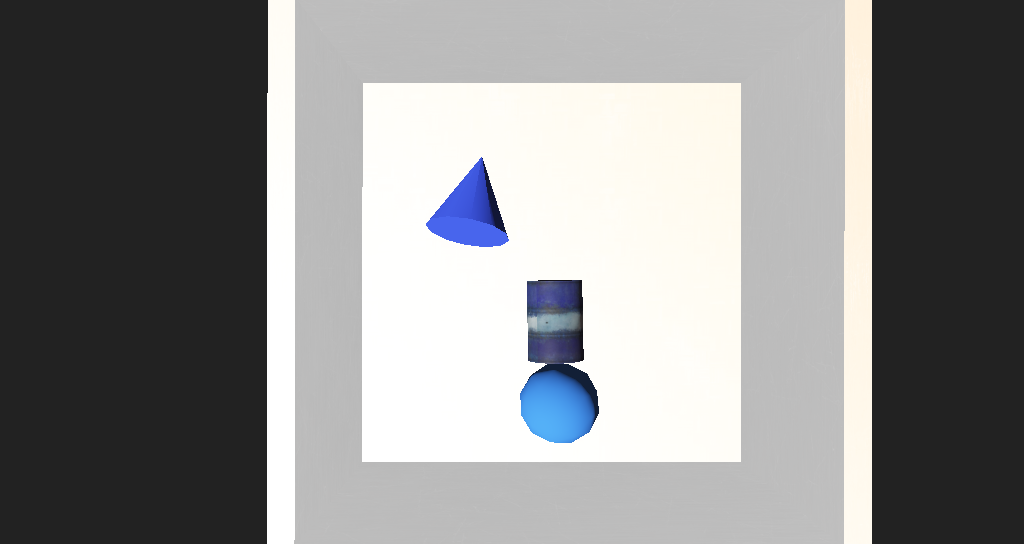cone: (488, 272, 536, 320)
cylinder: (384, 186, 492, 253)
sphere: (482, 322, 542, 365)
